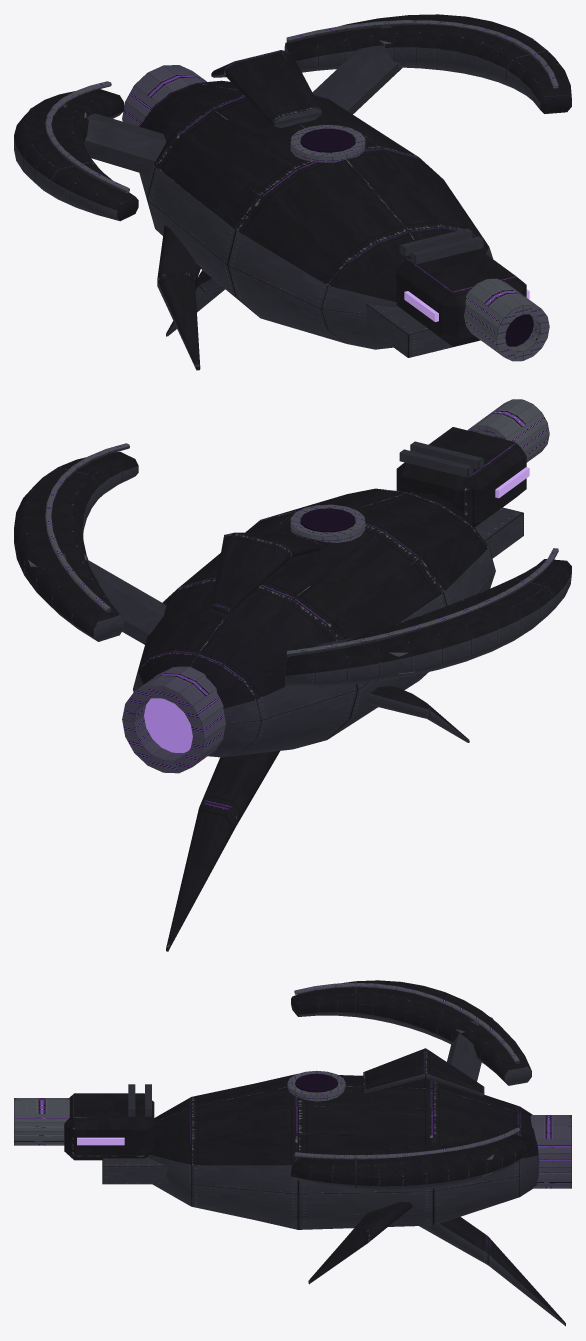
The model's file is pioneer-eris-l04-laser.glb.
3 renders of one model, top to bottom at view 1: azimuth 30°, elevation 25°; view 2: azimuth 150°, elevation 25°; view 3: azimuth 270°, elevation 25°, orthographic. The views are drawn at different scales.
Visible parts, largest first — view 1: Drone; view 2: Drone; view 3: Drone.
Part boxes in pixels (x1,y1,x2,y2): Drone: (14,14,571,370); Drone: (14,399,571,951); Drone: (14,980,571,1326).
Bounding box in the file's own units: 1.16 × 0.762 × 1.43.
Materials: 3 (3 with a texture image).
